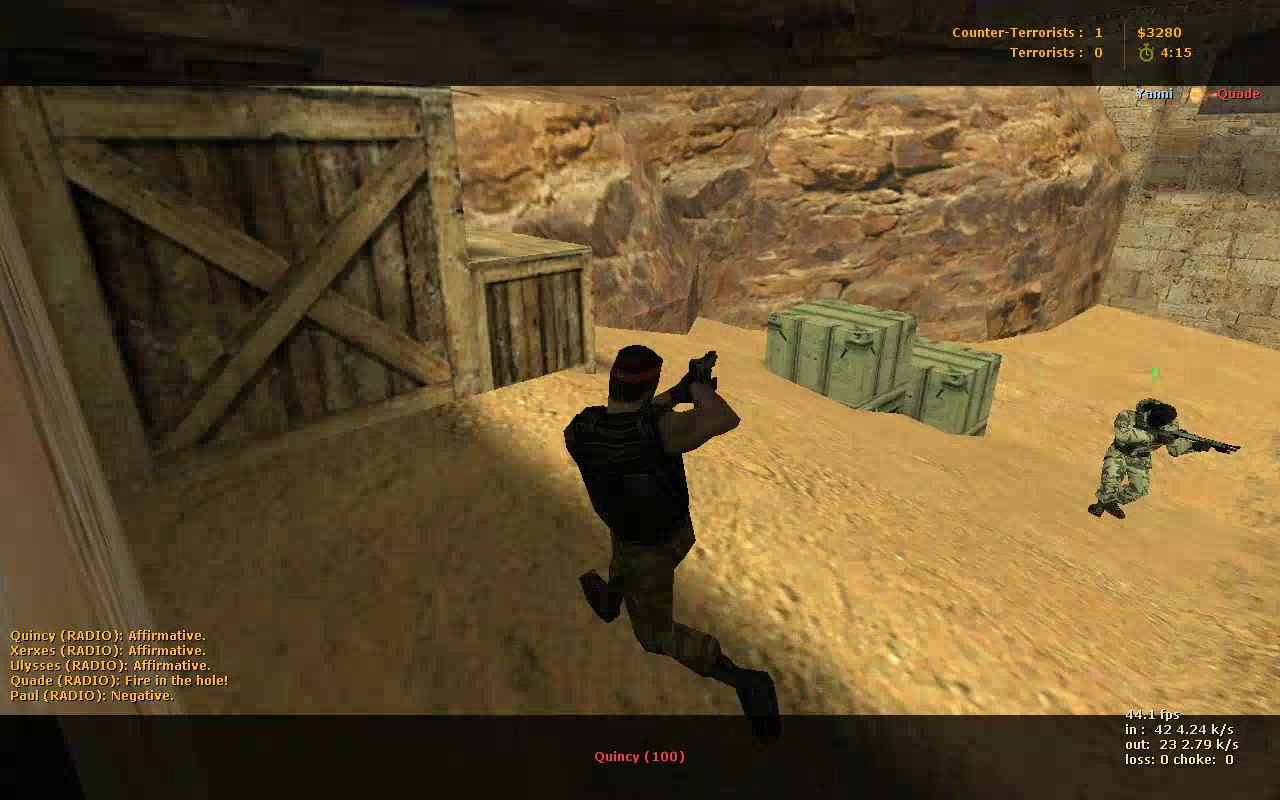terr1: (562, 337, 802, 727)
terr2: (1088, 392, 1212, 526)
